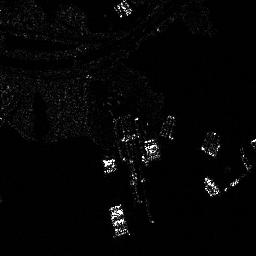ship: (105, 202, 131, 238)
